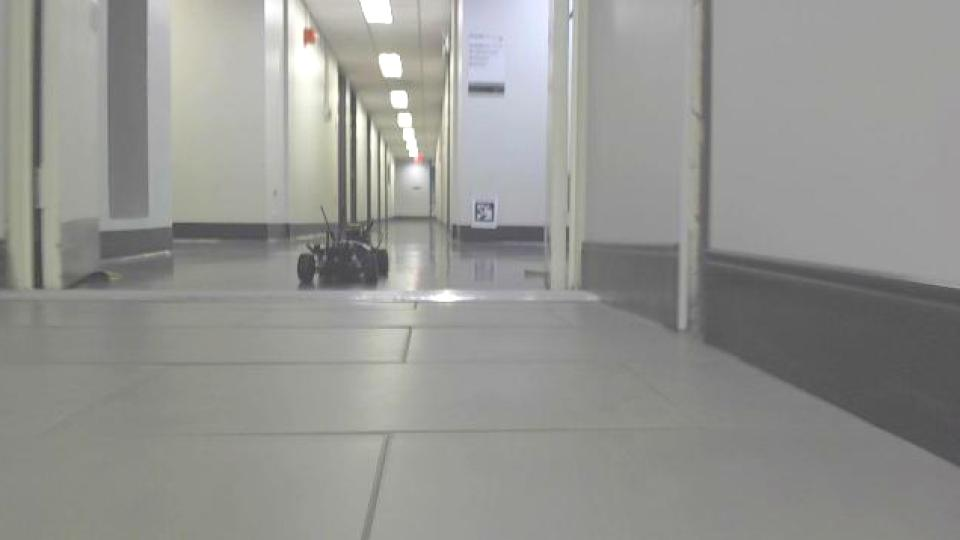car: (294, 202, 394, 290)
